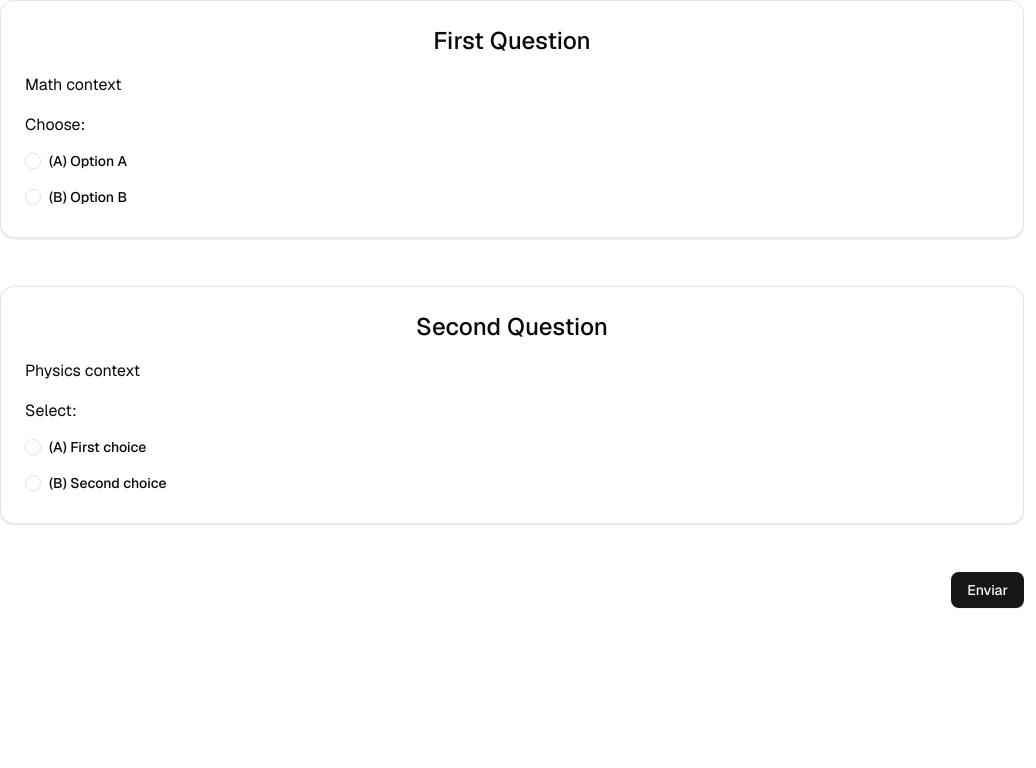
Test: SubmitChallengeForm › shows loading state when submitting
Click the button "Enviar" at (988, 590), box [951,572,1024,608]
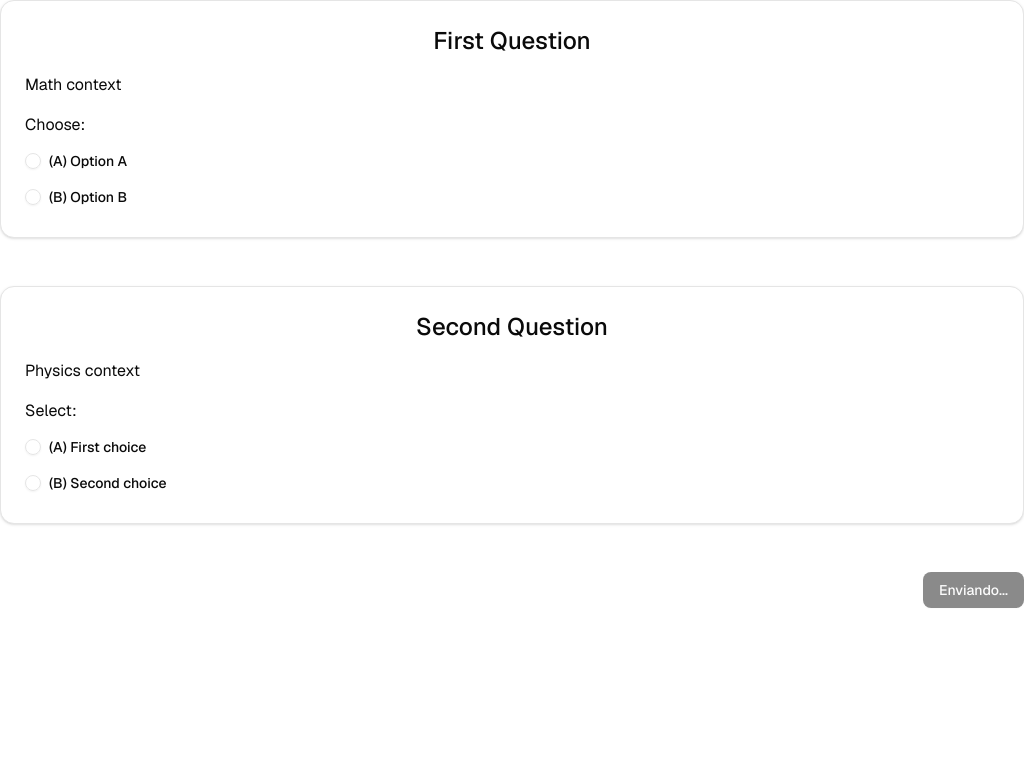
Expected: the button is disabled, [923,572,1024,608]
